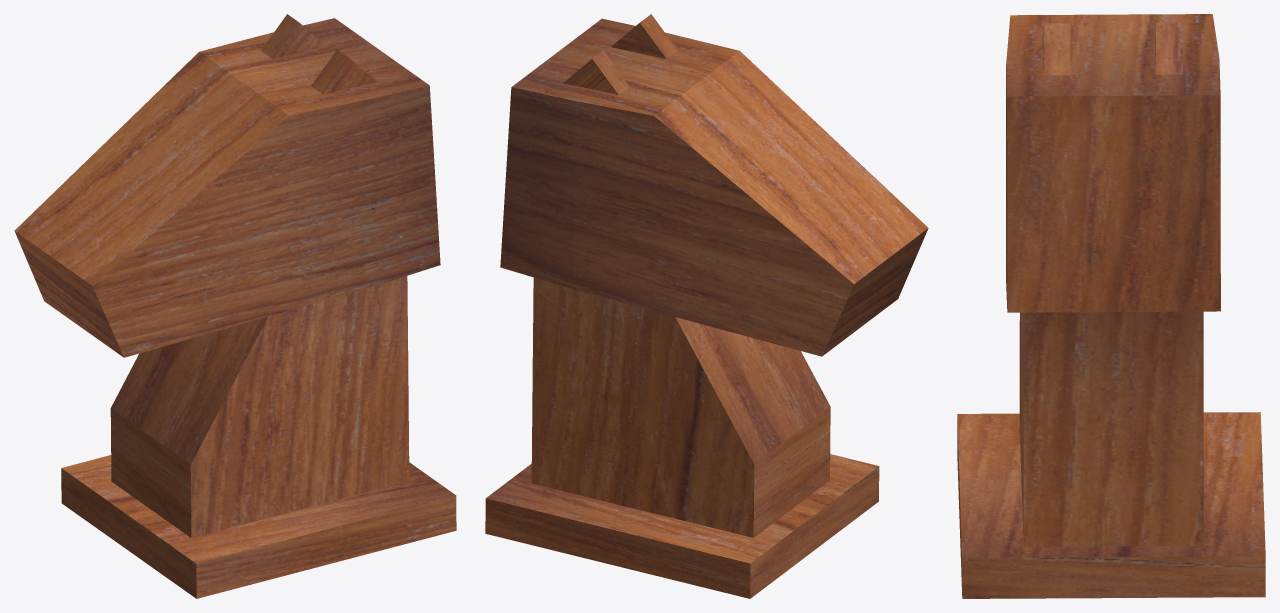
Rendered from skoczek czarny.glb.
The picture shows the model from 3 angles, left to right: view 1: azimuth 30°, elevation 25°; view 2: azimuth 150°, elevation 25°; view 3: azimuth 270°, elevation 25°; orthographic projection. The views are drawn at different scales.
Parts seen in each view (by area): view 1: skoczek czarny; view 2: skoczek czarny; view 3: skoczek czarny.
Part boxes in pixels (bbox=[...]): skoczek czarny: bbox=[14, 14, 456, 598]; skoczek czarny: bbox=[485, 14, 928, 598]; skoczek czarny: bbox=[957, 14, 1265, 598].
Bounding box in the file's own units: 20.37 × 26.42 × 13.72.
Materials: 1 (1 with a texture image).
